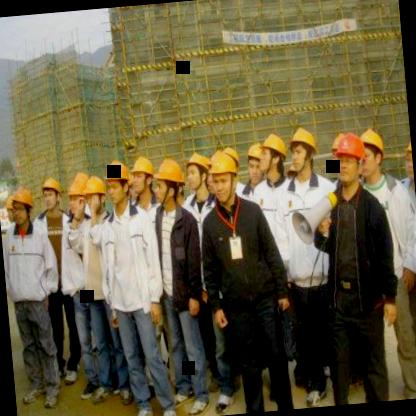helmet: (288, 123, 322, 179), (334, 134, 368, 188), (209, 149, 240, 205), (151, 157, 187, 205), (356, 128, 387, 180), (255, 131, 290, 177), (104, 157, 130, 207), (185, 148, 212, 196), (10, 183, 38, 228), (82, 174, 110, 216), (130, 154, 158, 194), (245, 140, 267, 184), (39, 174, 64, 212), (329, 132, 349, 174), (64, 180, 87, 216), (402, 136, 414, 183), (3, 189, 17, 224)
